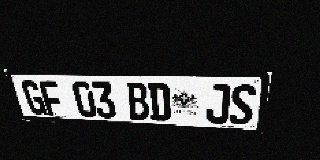0: (71, 81, 98, 118)
3: (91, 81, 117, 119)
B: (125, 82, 150, 120)
D: (147, 83, 171, 121)
F: (38, 81, 66, 116)
G: (20, 80, 48, 115)
J: (206, 84, 231, 124)
S: (229, 84, 257, 125)
